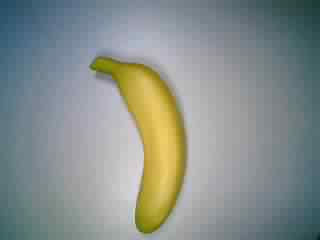banana: (83, 51, 194, 235)
